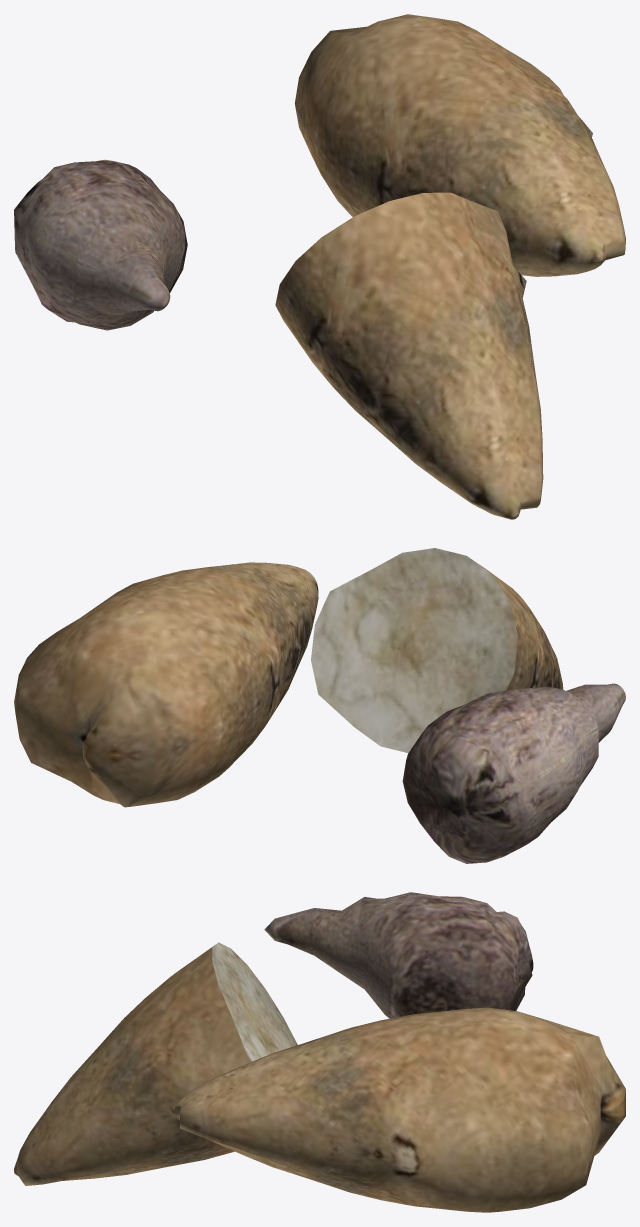
File: chuanwu.FBX
The picture shows the model from 3 angles, top to bottom: view 1: azimuth 30°, elevation 25°; view 2: azimuth 150°, elevation 25°; view 3: azimuth 270°, elevation 25°; orthographic projection. The views are drawn at different scales.
Visible parts, largest first — view 1: Cylinder003, Cylinder002, Cylinder001; view 2: Cylinder002, Cylinder003, Cylinder001; view 3: Cylinder002, Cylinder003, Cylinder001.
Part boxes in pixels (x1,y1,x2,y2): Cylinder003: (275, 192, 543, 519); Cylinder002: (294, 14, 625, 276); Cylinder001: (14, 159, 187, 330); Cylinder002: (14, 562, 318, 807); Cylinder003: (311, 548, 563, 752); Cylinder001: (402, 683, 625, 863); Cylinder002: (170, 1007, 625, 1212); Cylinder003: (14, 942, 297, 1185); Cylinder001: (264, 892, 533, 1018).
Bounding box in the file's own units: 46.59 × 21.33 × 50.03.
